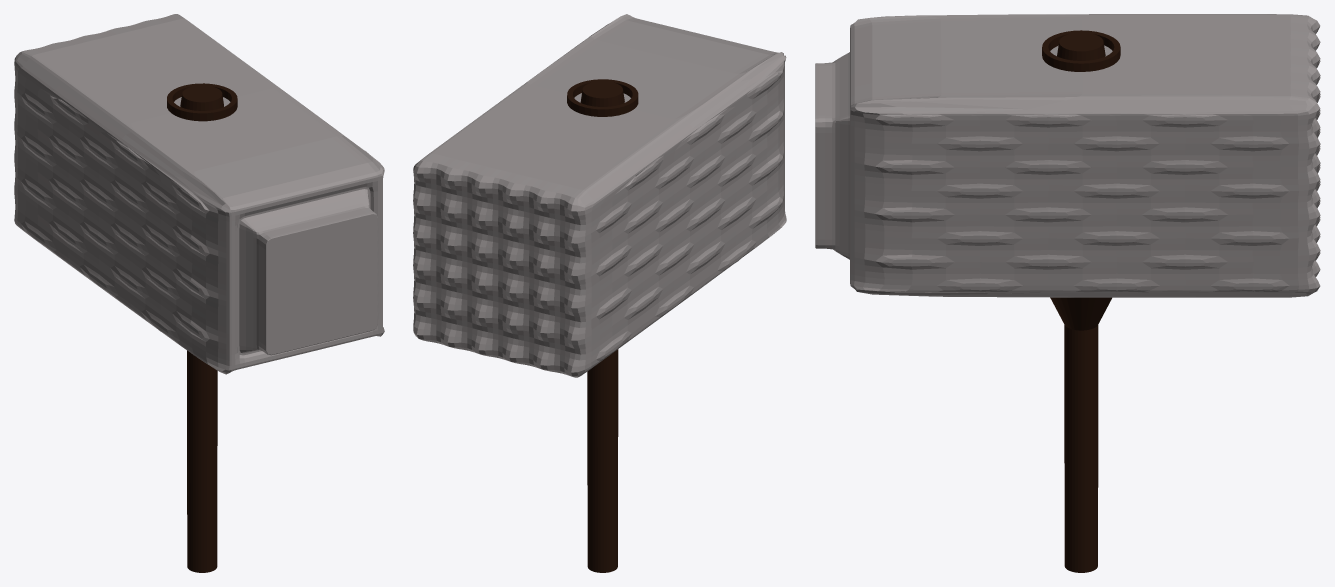
Rendered from tender.fbx.
3 views of the same model, side by side, from view 1: azimuth 30°, elevation 25°; view 2: azimuth 150°, elevation 25°; view 3: azimuth 270°, elevation 25° (orthographic). The views are drawn at different scales.
Visible parts, largest first — view 1: Cube, Cylinder; view 2: Cube, Cylinder; view 3: Cube, Cylinder.
Boxes of the visible parts, left/top/right/bottom form: Cube: left=14, top=14, right=384, bottom=374; Cylinder: left=167, top=83, right=237, bottom=572; Cube: left=413, top=14, right=786, bottom=377; Cylinder: left=567, top=79, right=638, bottom=572; Cube: left=815, top=14, right=1320, bottom=297; Cylinder: left=1042, top=30, right=1120, bottom=572.
Size of the model in its own units: 146 by 371 by 325.
